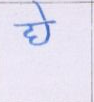o_matra: (40, 7, 52, 45)
